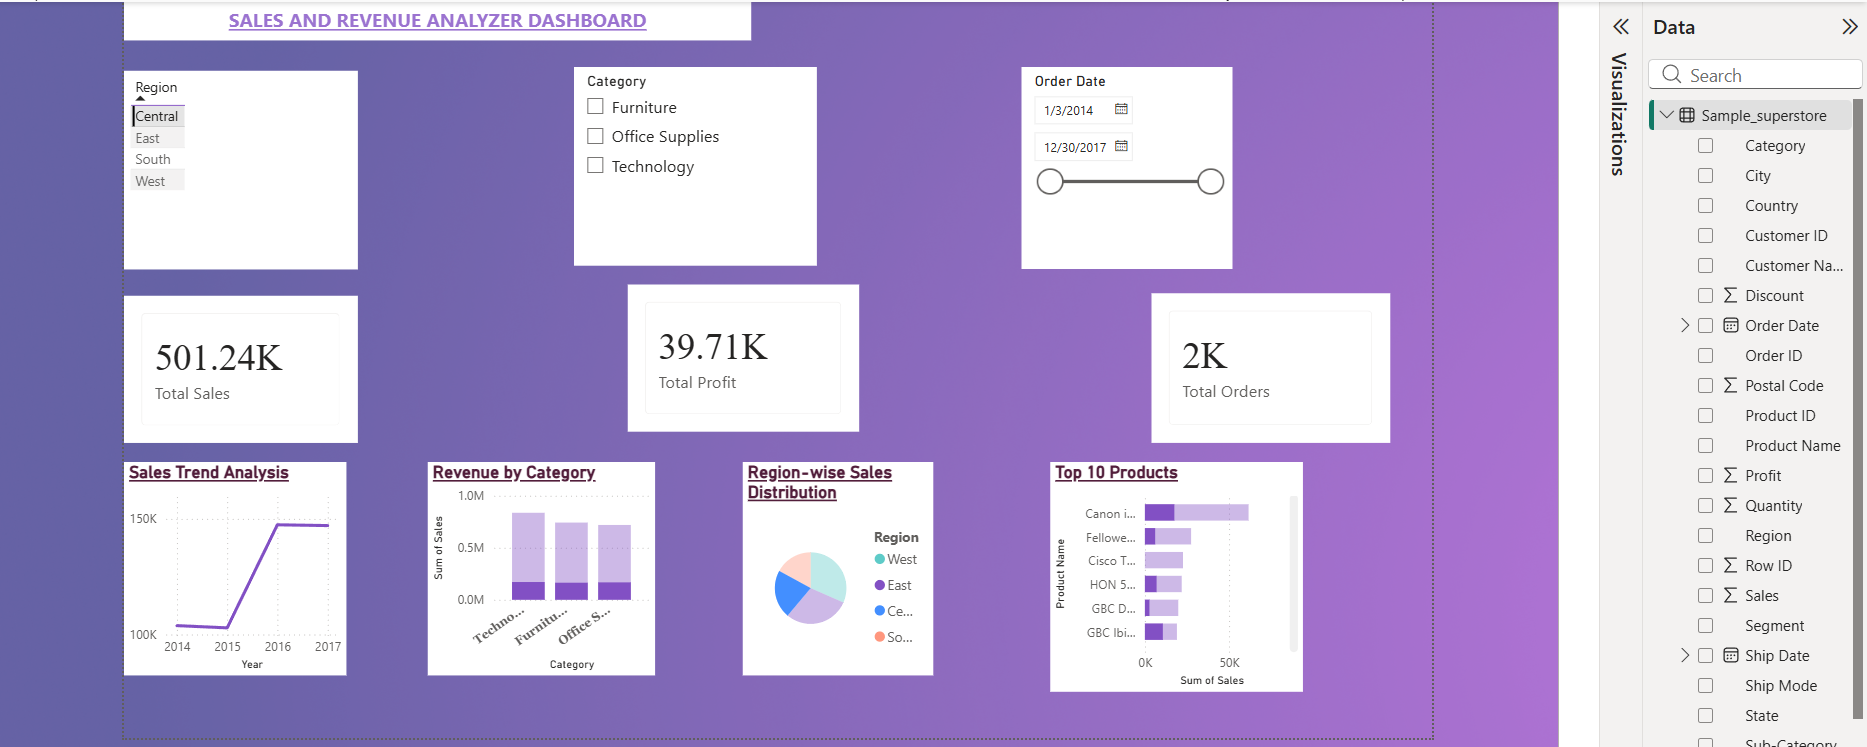

The page's visual inventory and layout, read from the dashboard file:
{"tool":"powerbi","page":{"name":"Page 1","canvas":[1280,720],"ordinal":0},"visuals":[{"type":"cardVisual","fields":{"Data":["Sample_superstore.Total Sales"]},"box":[0,287.4,228.7,144.3],"z":0},{"type":"cardVisual","fields":{"Data":["Sample_superstore.Total Profit"]},"box":[492.8,276.4,226.2,144.3],"z":1000},{"type":"cardVisual","fields":{"Data":["Sample_superstore.Total Orders"]},"box":[1005.2,284.9,233.6,146.7],"z":2000},{"type":"lineChart","title":"Sales Trend Analysis","fields":{"Category":["Sample_superstore.Order Date.Variation.Date Hierarchy.Year","Sample_superstore.Order Date.Variation.Date Hierarchy.Quarter","Sample_superstore.Order Date.Variation.Date Hierarchy.Month","Sample_superstore.Order Date.Variation.Date Hierarchy.Day"],"Y":["Sum(Sample_superstore.Sales)"]},"box":[0,450,217.5,208.8],"z":3000},{"type":"clusteredColumnChart","title":"Revenue by Category","fields":{"Category":["Sample_superstore.Category"],"Y":["Sum(Sample_superstore.Sales)"]},"box":[297.5,450,222.5,208.8],"z":4000},{"type":"clusteredBarChart","title":"Top 10 Products ","fields":{"Category":["Sample_superstore.Product Name"],"Y":["Sum(Sample_superstore.Sales)"]},"box":[906.2,450,247.5,225],"z":5000},{"type":"pieChart","title":"Region-wise Sales Distribution","fields":{"Category":["Sample_superstore.Region"],"Y":["Sum(Sample_superstore.Sales)"]},"box":[605.3,450,231.1,209.1],"z":6000},{"type":"slicer","fields":{"Values":["Sample_superstore.Category"]},"box":[440.2,63.6,237.2,194.4],"z":7000},{"type":"tableEx","fields":{"Values":["Sample_superstore.Region"]},"box":[0,67.3,228.7,194.4],"z":8000},{"type":"slicer","fields":{"Values":["Sample_superstore.Order Date"]},"box":[878,63.6,206.7,196.9],"z":9000},{"type":"textbox","box":[0,0,613.8,37.5],"z":10000}]}

Visuals, with their boxes in screenshot pixels (x1, y1, x2, y2):
cardVisual - Sample_superstore.Total Sales: select_region(117, 295, 351, 443)
cardVisual - Sample_superstore.Total Profit: select_region(622, 283, 854, 431)
cardVisual - Sample_superstore.Total Orders: select_region(1148, 292, 1387, 443)
"Sales Trend Analysis" lineChart: select_region(117, 461, 340, 676)
"Revenue by Category" clusteredColumnChart: select_region(422, 461, 650, 676)
"Top 10 Products " clusteredBarChart: select_region(1046, 461, 1300, 692)
"Region-wise Sales Distribution" pieChart: select_region(737, 461, 974, 676)
slicer - Sample_superstore.Category: select_region(568, 65, 811, 265)
tableEx - Sample_superstore.Region: select_region(117, 69, 351, 268)
slicer - Sample_superstore.Order Date: select_region(1017, 65, 1229, 267)
textbox: select_region(117, 0, 746, 38)
